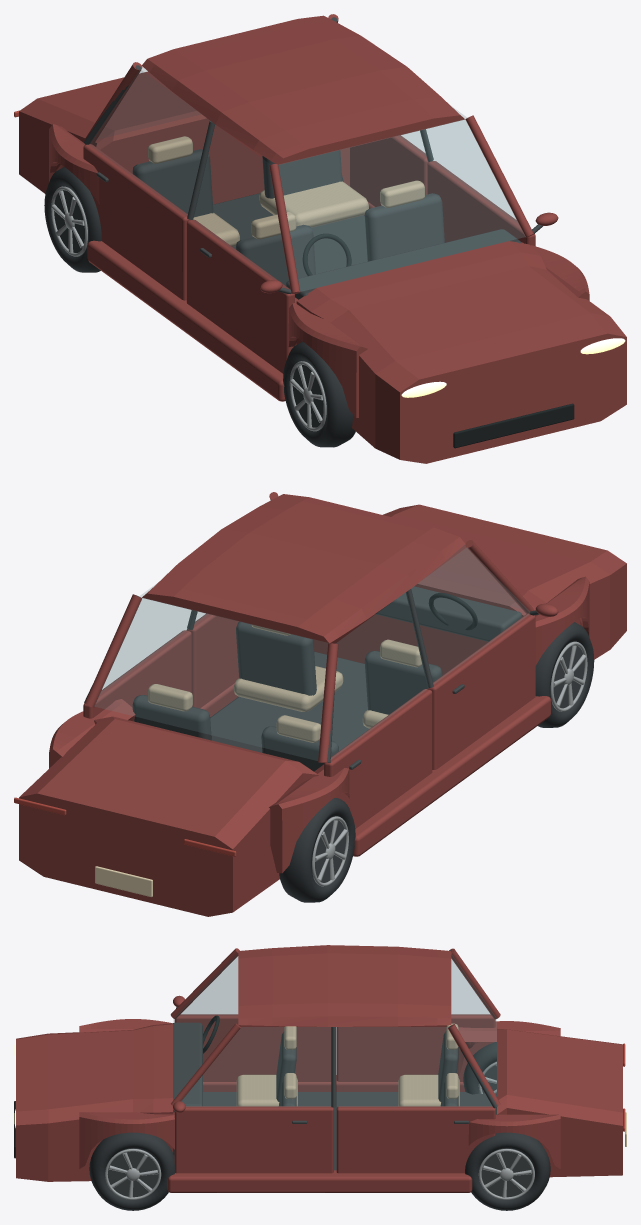
The model's file is river_sedan-83b2a876daa9.glb.
3 views of the same model, one above another, from view 1: azimuth 30°, elevation 25°; view 2: azimuth 150°, elevation 25°; view 3: azimuth 270°, elevation 25° (orthographic). The views are drawn at different scales.
Parts seen in each view (by area): view 1: surface_#904844 (×6), surface_Optical_smoke (×4), surface_graphite (×4), surface_linen, surface_rubber (×2), surface_steel (×2), surface_black, surface_lit; view 2: surface_#904844 (×6), surface_Optical_smoke (×4), surface_graphite (×4), surface_rubber (×2), surface_linen, surface_steel (×2), surface_ivory, surface_red; view 3: surface_#904844 (×6), surface_Optical_smoke (×5), surface_graphite (×4), surface_rubber (×3), surface_linen, surface_steel (×2), surface_black.
Part boxes in pixels (x1,y1,x2,y2): surface_#904844 (×6): (19,14,626,463); surface_Optical_smoke (×4): (89,68,525,290); surface_graphite (×4): (54,121,521,427); surface_linen: (148,136,424,246); surface_rubber (×2): (44,167,355,447); surface_steel (×2): (51,186,326,431); surface_black: (302,233,574,448); surface_lit: (401,338,625,397); surface_#904844 (×6): (19,492,626,916); surface_Optical_smoke (×4): (94,545,529,760); surface_graphite (×4): (132,586,584,882); surface_rubber (×2): (279,622,594,902); surface_linen: (148,624,422,742); surface_steel (×2): (312,641,587,886); surface_ivory: (95,866,152,896); surface_red: (14,797,236,856); surface_#904844 (×6): (16,945,622,1192); surface_Optical_smoke (×5): (174,954,496,1106); surface_graphite (×4): (107,1022,532,1197); surface_rubber (×3): (89,1042,550,1210); surface_linen: (236,1023,459,1106); surface_steel (×2): (105,1149,534,1199); surface_black: (14,1015,219,1158).
Bounding box in the file's own units: 1.96 × 1.5 × 4.48.
Materials: 11 (1 with a texture image).
